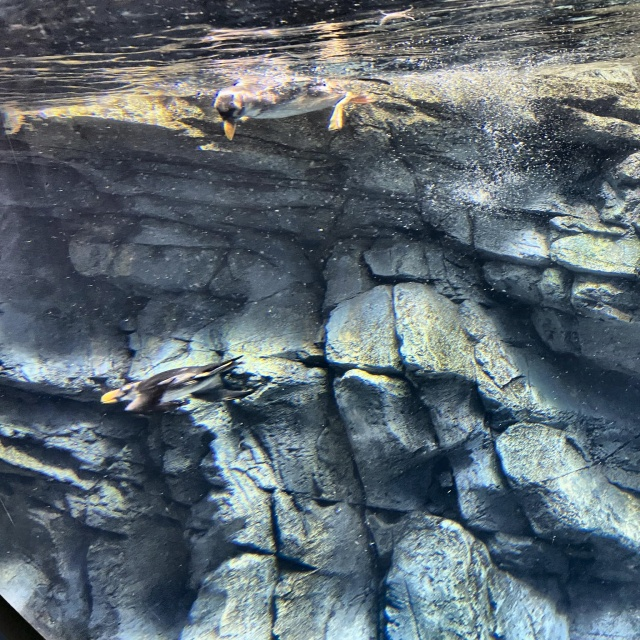puffin: (213, 74, 373, 141), (100, 354, 258, 416)
